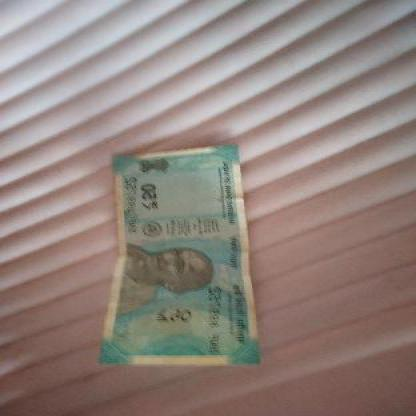New50Front: (100, 147, 259, 366)
